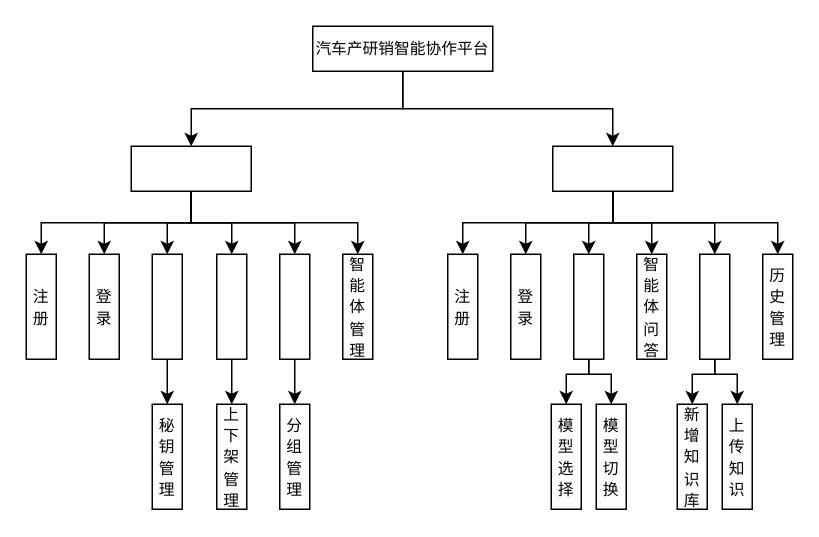
The diagram is 819 pixels wide and 537 high, and some of its shapes have lost their labels. Here are the shapes that lost their labels. From the top down, the centre of each, then its label:
the point at 190,168: 管理员
the point at 612,168: 普通用户
the point at 166,306: 供应商管理
the point at 231,306: 模型管理
the point at 294,306: 用户管理
the point at 588,306: 模型问答
the point at 714,306: 知识库管理
